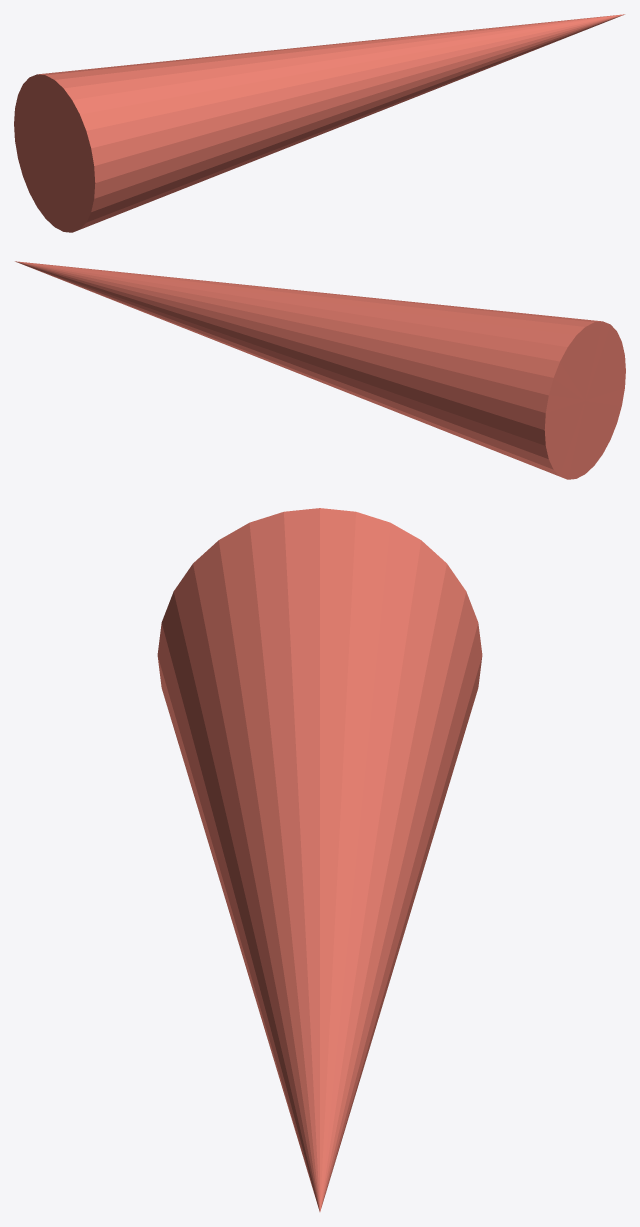
Rendered from rocket_nose.glb.
3 renders of one model, top to bottom at view 1: azimuth 30°, elevation 25°; view 2: azimuth 150°, elevation 25°; view 3: azimuth 270°, elevation 25°, orthographic. The views are drawn at different scales.
Parts seen in each view (by area): view 1: rocket_nose; view 2: rocket_nose; view 3: rocket_nose.
Boxes of the visible parts, x1,y1,x2,y2 form: rocket_nose: (14,14,624,232); rocket_nose: (15,261,625,479); rocket_nose: (157,508,482,1211).
Size of the model in its own units: 0.619 by 0.1524 by 0.1524.
